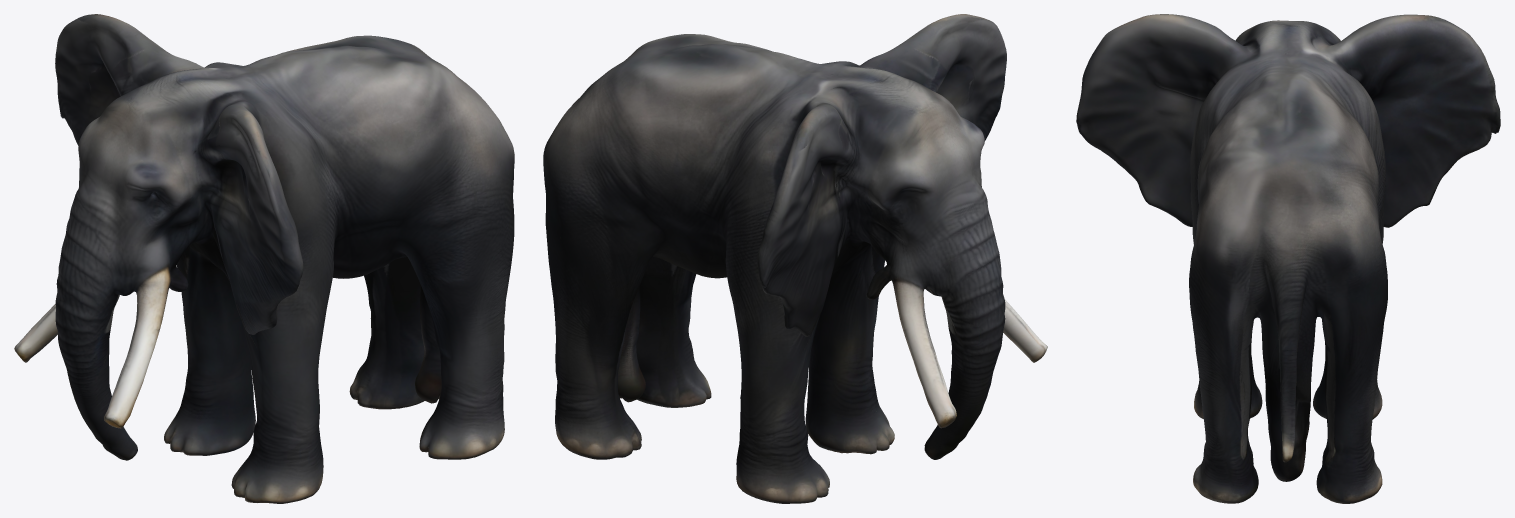
The model's file is Elephant.glb.
3 renders of one model, left to right at view 1: azimuth 30°, elevation 25°; view 2: azimuth 150°, elevation 25°; view 3: azimuth 270°, elevation 25°, orthographic. The views are drawn at different scales.
Size of the model in its own units: 2 by 1.81 by 1.89.
Materials: 1 (1 with a texture image).
